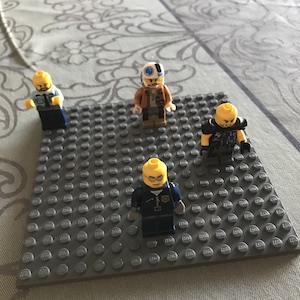Lego: (129, 157, 187, 238), (199, 102, 248, 169), (130, 60, 176, 129), (24, 67, 68, 132)
